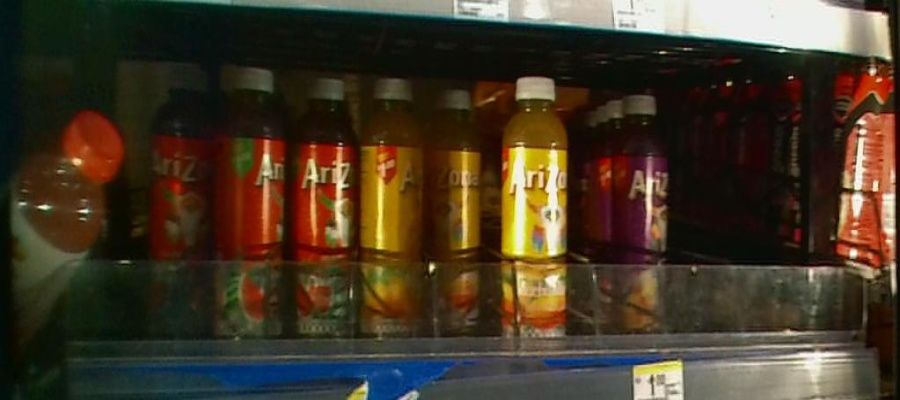bottle: (209, 60, 288, 346), (501, 77, 574, 345), (291, 65, 357, 343), (358, 72, 425, 340), (148, 60, 208, 340), (429, 90, 487, 339), (615, 72, 671, 324)
